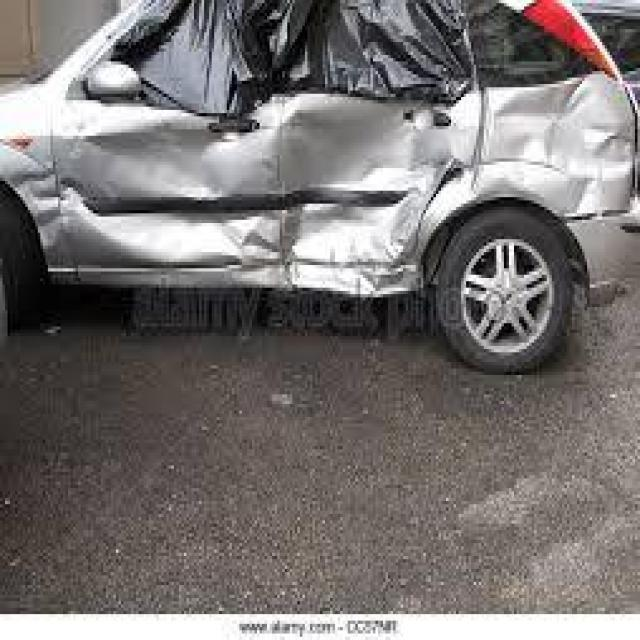damaged: (58, 3, 434, 291), (440, 3, 638, 214), (20, 162, 83, 256)
